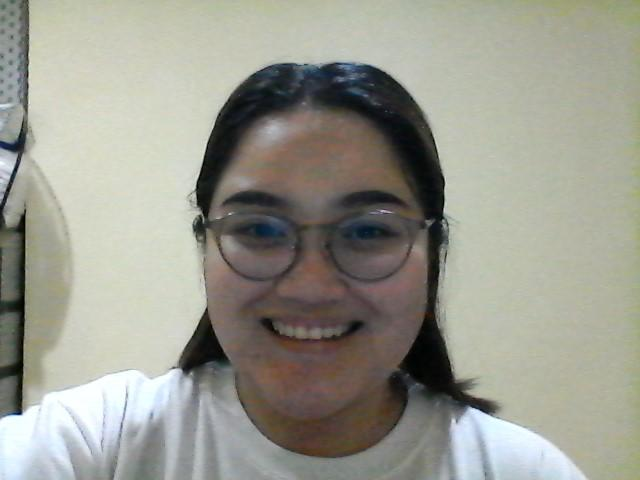senang: (211, 119, 438, 408)
